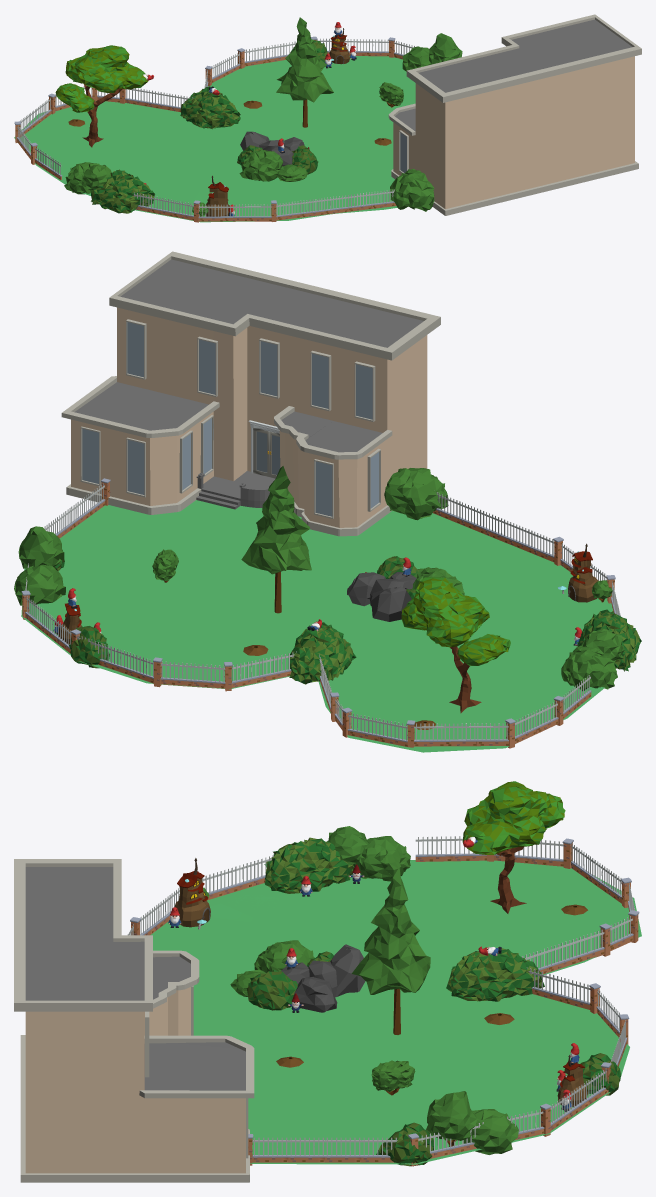
File: Level_Intermidiate_Medium_1_gras_mesh.fbx
3 renders of one model, top to bottom at view 1: azimuth 30°, elevation 25°; view 2: azimuth 150°, elevation 25°; view 3: azimuth 270°, elevation 25°, orthographic. The views are drawn at different scales.
Parts seen in each view (by area): view 1: House_large, Plane.002, grass_mesh, TreeBase.004, SpruceTree.001, UlgyBush.002, UlgyBush.004, BigBoyBush.003, BigBoyBush.004, Bush.013, Gnome_House, BigBoyBush.002 (+12 smaller); view 2: House_large, grass_mesh, Plane.002, TreeBase.004, SpruceTree.001, UlgyBush.004, BigBoyBush.003, BigBoyBush.002, Bush.012, UlgyBush.002, Bush.013, Gnome_House (+4 smaller); view 3: Plane.002, House_large, grass_mesh, TreeBase.004, SpruceTree.001, UlgyBush.004, UlgyBush.002, Bush.013, BigBoyBush.002, Bush.012, UlgyBush.006, Gnome_House (+13 smaller).
Part boxes in pixels (box(x1,y1,x2,y2)): House_large: box(388, 14, 641, 215); Plane.002: box(14, 56, 415, 222); grass_mesh: box(24, 57, 415, 215); TreeBase.004: box(55, 45, 148, 147); SpruceTree.001: box(276, 17, 333, 127); UlgyBush.002: box(91, 169, 154, 213); UlgyBush.004: box(180, 86, 240, 129); BigBoyBush.003: box(390, 168, 434, 211); BigBoyBush.004: box(239, 150, 283, 181); Bush.013: box(429, 33, 462, 64); Gnome_House: box(206, 175, 229, 216); BigBoyBush.002: box(64, 162, 100, 194); House_large: box(61, 251, 440, 536); grass_mesh: box(36, 510, 602, 739); Plane.002: box(21, 500, 612, 752); TreeBase.004: box(401, 577, 510, 713); SpruceTree.001: box(241, 466, 311, 613); UlgyBush.004: box(289, 622, 356, 684); BigBoyBush.003: box(384, 468, 448, 520); BigBoyBush.002: box(561, 645, 617, 691); Bush.012: box(14, 564, 65, 605); UlgyBush.002: box(577, 609, 641, 671); Bush.013: box(18, 526, 64, 568); Gnome_House: box(558, 543, 598, 602); Plane.002: box(150, 860, 641, 1164); House_large: box(14, 859, 254, 1182); grass_mesh: box(159, 864, 619, 1154); TreeBase.004: box(462, 781, 565, 913); SpruceTree.001: box(351, 867, 430, 1034); UlgyBush.004: box(446, 947, 544, 1001); UlgyBush.002: box(264, 837, 353, 893); Bush.013: box(426, 1091, 476, 1146); BigBoyBush.002: box(352, 836, 410, 881); Bush.012: box(463, 1109, 518, 1154); UlgyBush.006: box(247, 969, 297, 1010); Gnome_House: box(174, 858, 210, 929).
Size of the model in its own units: 15318 by 4219 by 12394.
